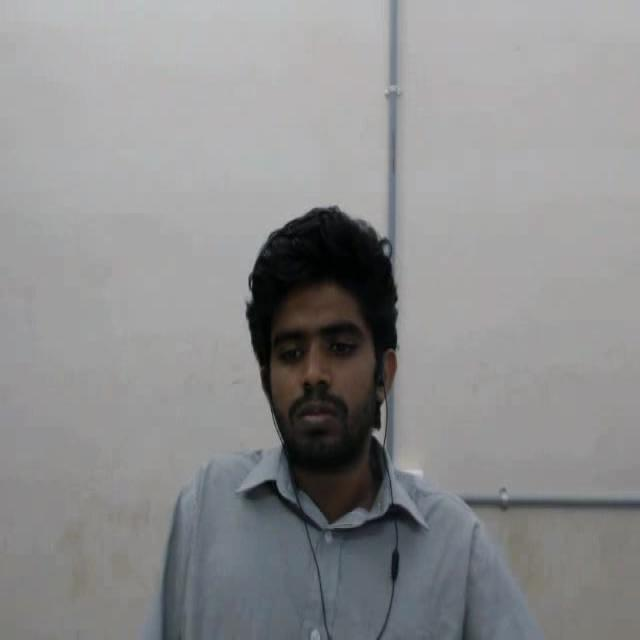Engaged: (208, 176, 437, 508)
